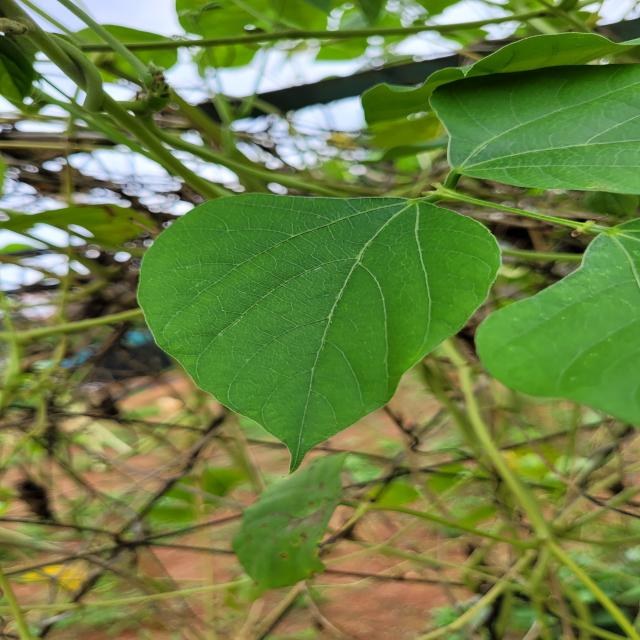Dolicos bean_healthy: (142, 192, 502, 473), (435, 61, 640, 202)
